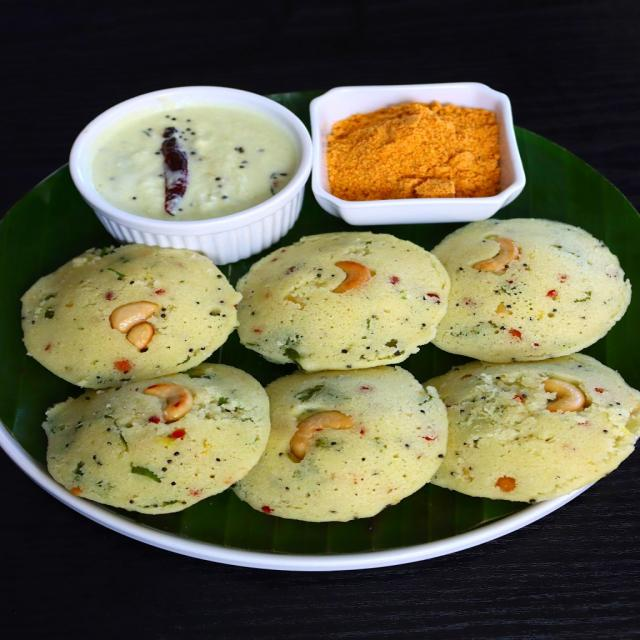rave idli: (23, 352, 288, 526), (6, 238, 263, 397), (231, 217, 455, 378), (248, 354, 450, 528), (431, 215, 640, 370), (439, 354, 640, 512)
